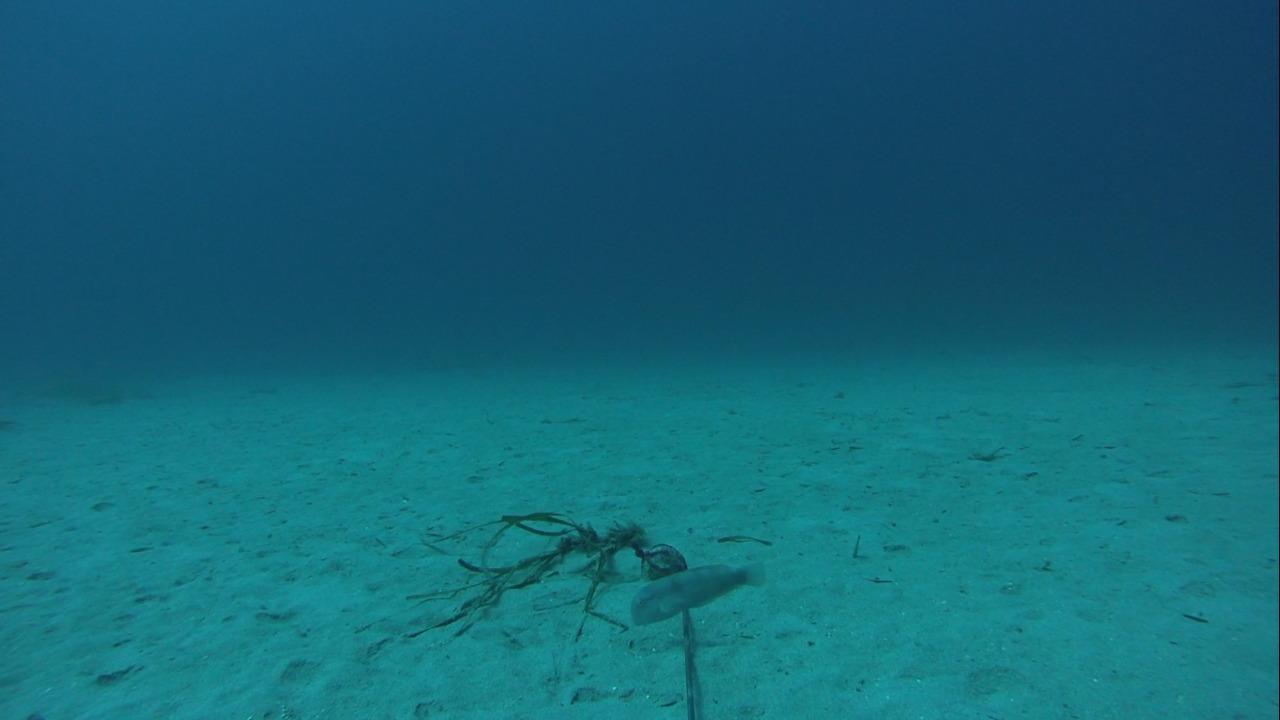raor: (628, 560, 762, 628)
